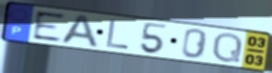0: (180, 27, 209, 60)
5: (139, 21, 169, 55)
A: (58, 13, 101, 50)
E: (32, 10, 67, 43)
L: (104, 19, 131, 51)
Q: (211, 31, 245, 64)
